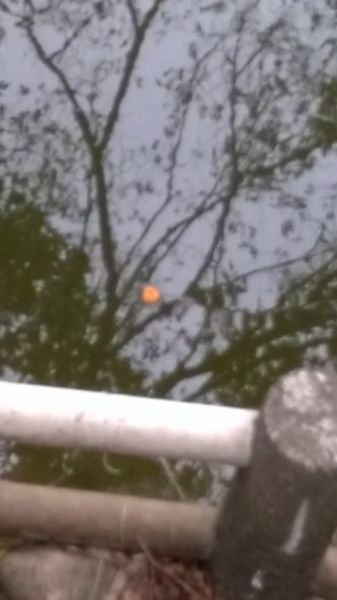eggs: (138, 281, 166, 308)
